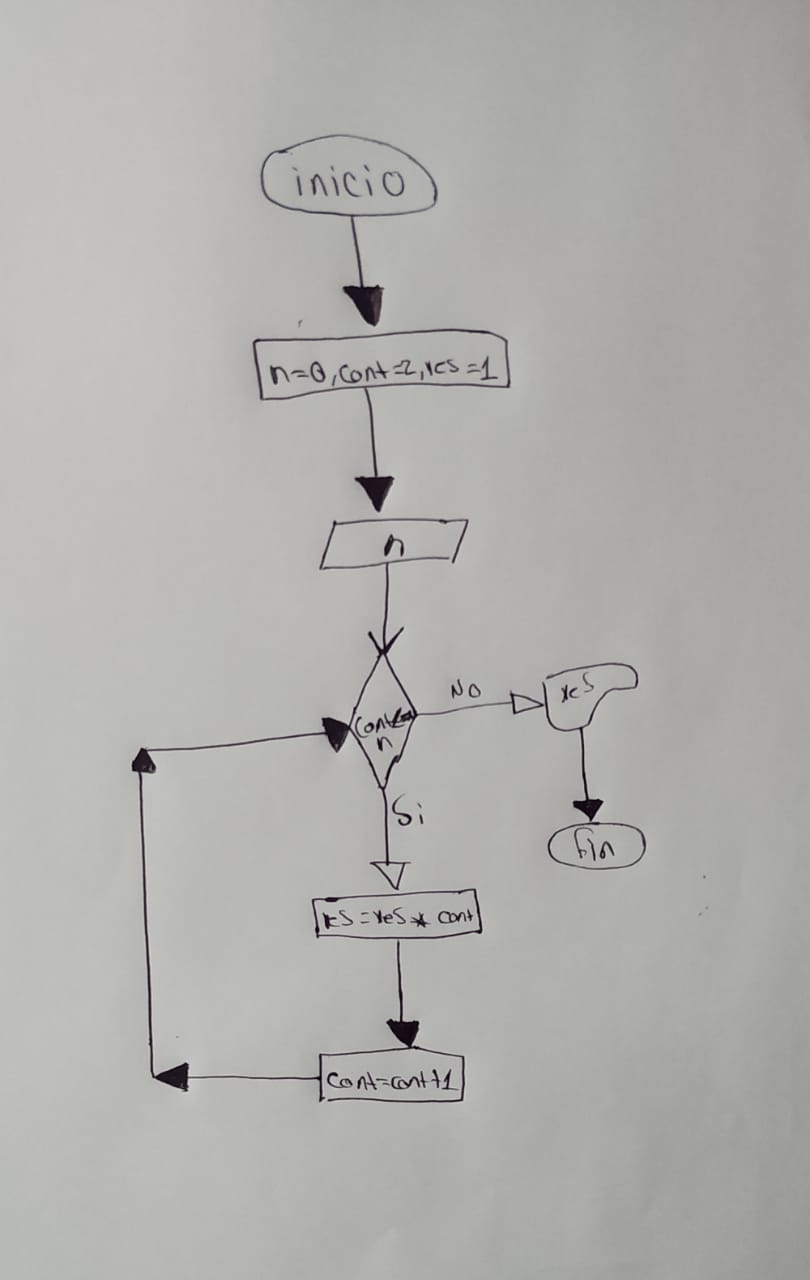arrow_line_down: (347, 388, 400, 517), (336, 214, 390, 334), (383, 938, 427, 1051), (371, 788, 411, 893), (367, 562, 406, 658), (568, 723, 606, 821)
arrow_line_left: (151, 1054, 319, 1095)
arrow_line_right: (142, 715, 353, 756), (418, 688, 544, 725)
arrow_line_up: (127, 745, 162, 1081)
decision: (347, 653, 421, 790)
print: (538, 660, 642, 736)
process: (246, 326, 518, 403), (308, 886, 485, 947), (316, 1045, 471, 1109)
scan: (317, 514, 474, 572)
start_end: (258, 131, 439, 219), (542, 820, 649, 872)
